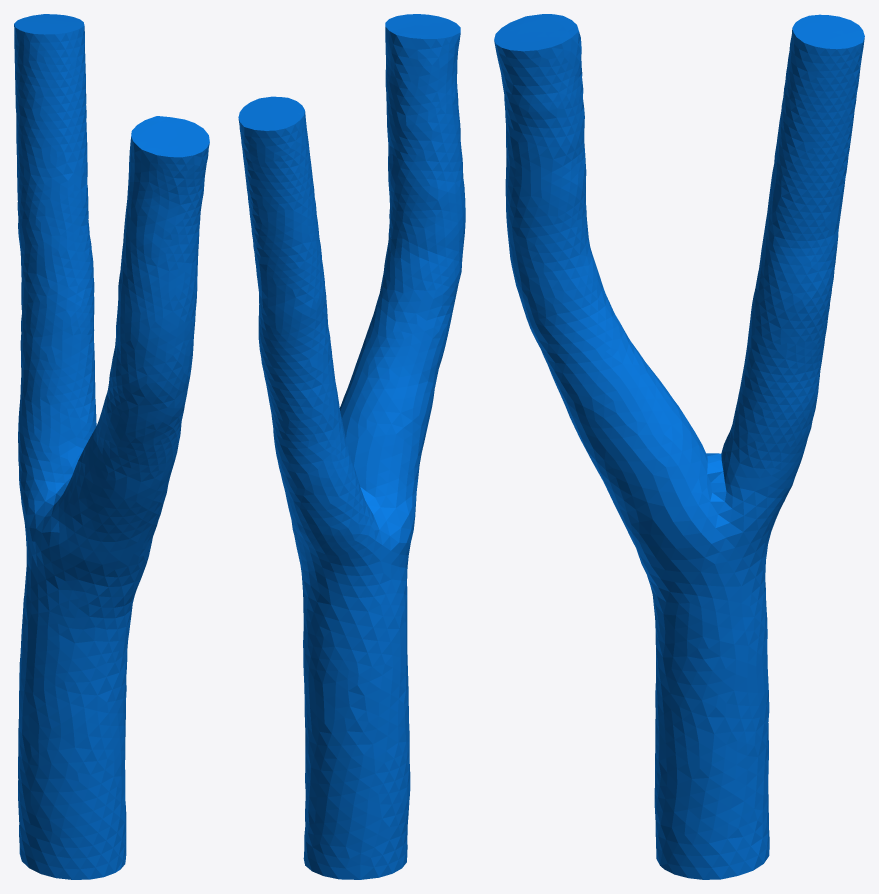
The model's file is carotid_blue.glb.
3 renders of one model, left to right at view 1: azimuth 30°, elevation 25°; view 2: azimuth 150°, elevation 25°; view 3: azimuth 270°, elevation 25°, orthographic. The views are drawn at different scales.
Parts seen in each view (by area): view 1: carotid; view 2: carotid; view 3: carotid.
Boxes of the visible parts, x1,y1,x2,y2 form: carotid: (14,14,209,879); carotid: (238,14,465,879); carotid: (494,14,864,879).
Bounding box in the file's own units: 1.17 × 8.21 × 3.27.
